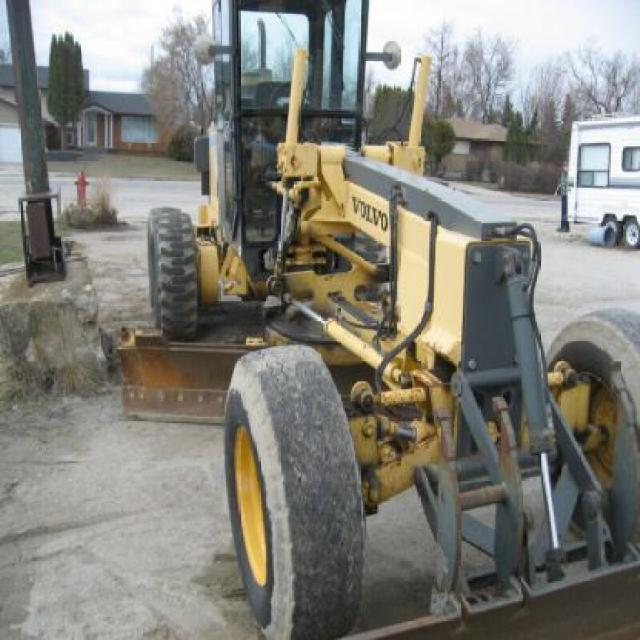Grader: (117, 2, 636, 634)
